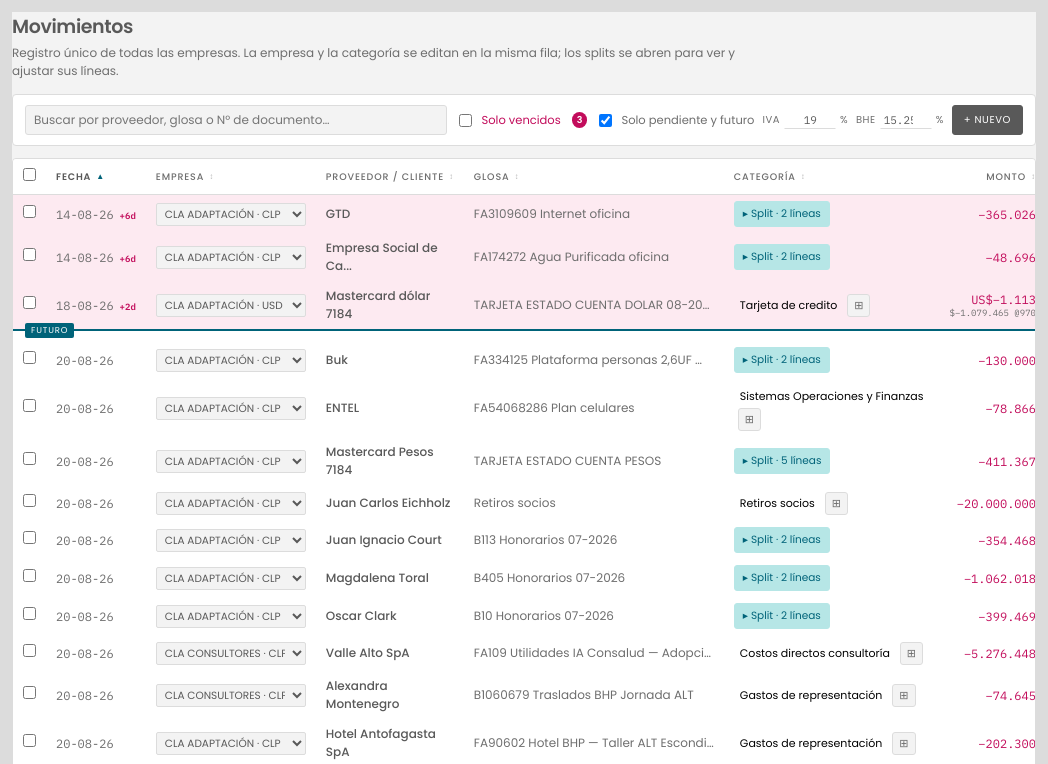
Seleccionar y sumar › shift alcanza el rango, que es como vienen las facturas de un mismo pago
Click the checkbox named "Seleccionar GTD del 14-08-26".
click(30, 212)  # box [23,205,36,218]
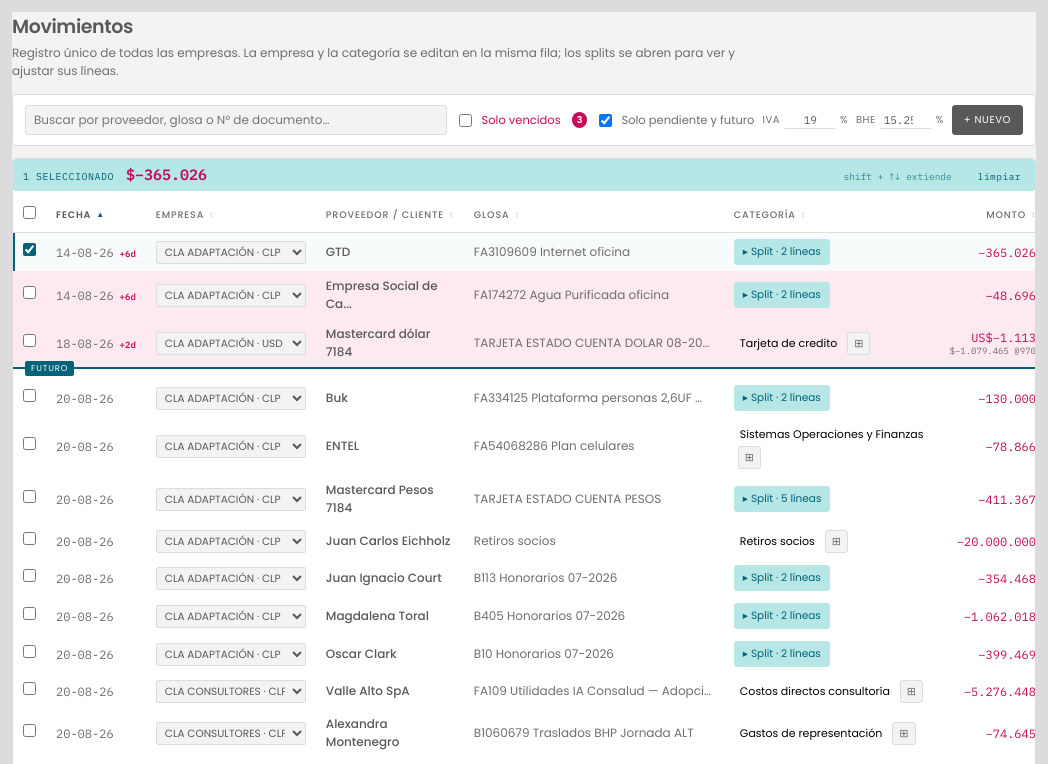
Click the checkbox named "Seleccionar ENTEL del 20-08-26".
click(30, 444)  # box [23,437,36,450]
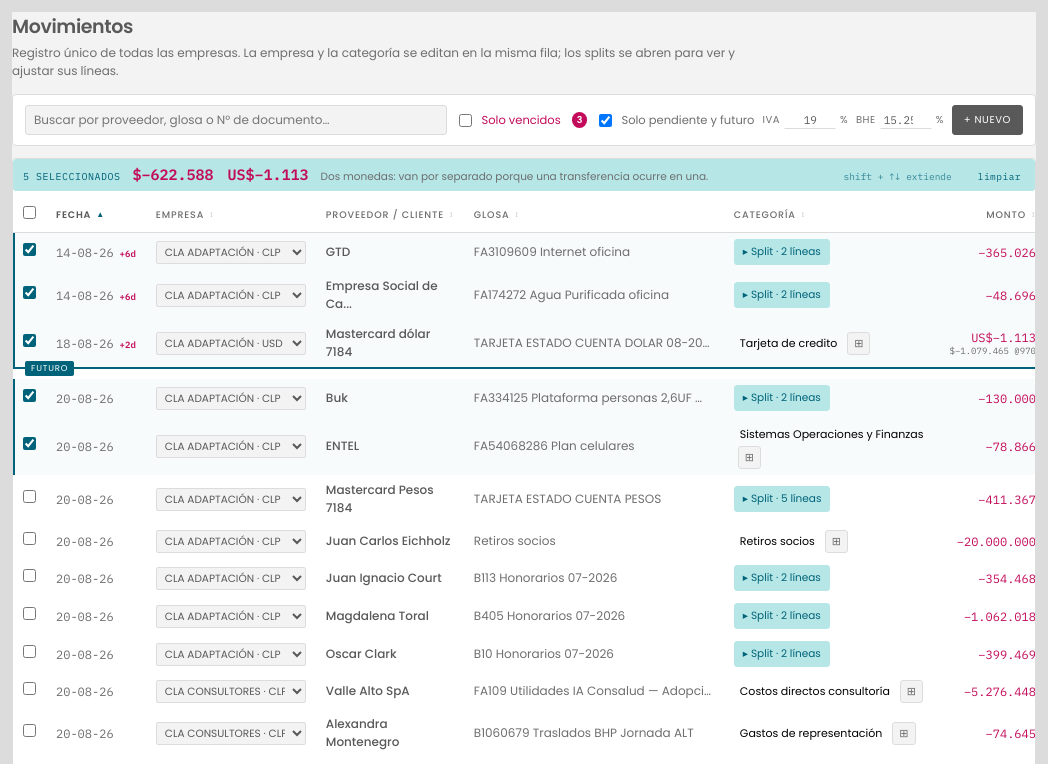
Now the message shows "5 seleccionados", box [13,159,1035,191]
